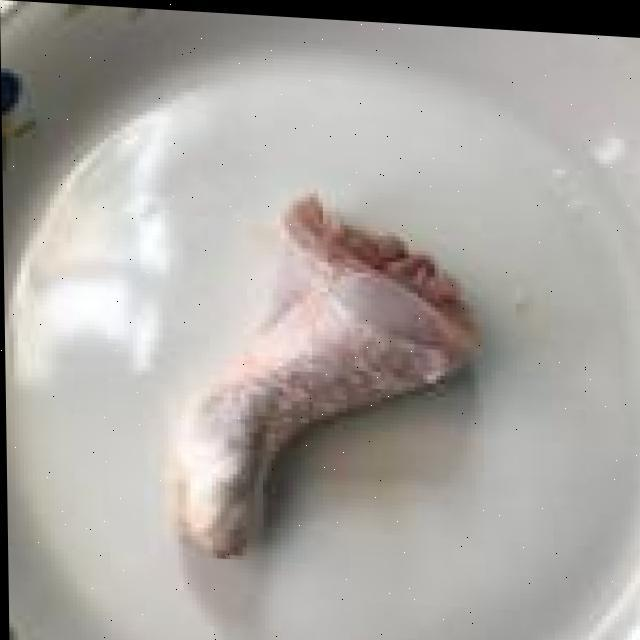leg: (169, 197, 459, 570)
